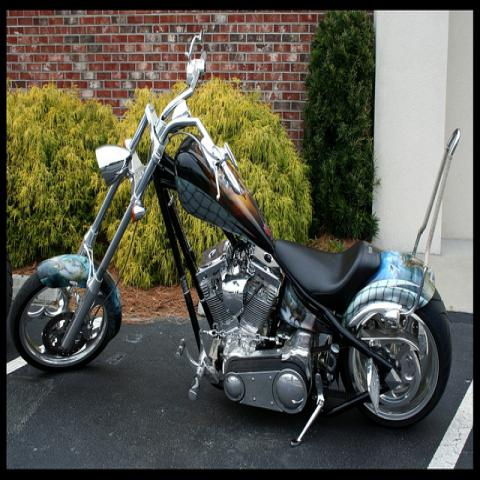motorcycle: (13, 57, 462, 444)
